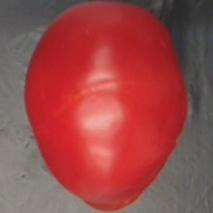unripe: (22, 1, 191, 213)
